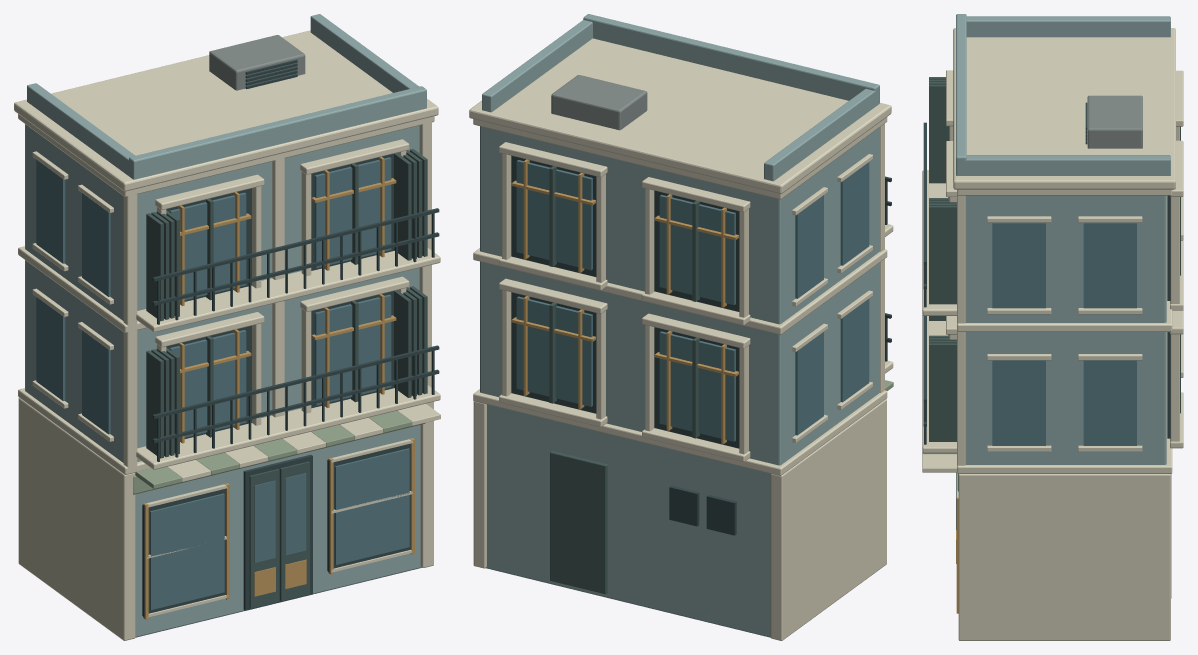
The model's file is sukhumvit-shophouse.glb.
3 renders of one model, left to right at view 1: azimuth 30°, elevation 25°; view 2: azimuth 150°, elevation 25°; view 3: azimuth 270°, elevation 25°, orthographic.
Visible parts, largest first — view 1: ShopUpperMesh, ShopLowerMesh; view 2: ShopUpperMesh, ShopLowerMesh; view 3: ShopUpperMesh, ShopLowerMesh.
Boxes of the visible parts, bbox=[...] form: ShopUpperMesh: bbox=[14, 14, 440, 474]; ShopLowerMesh: bbox=[18, 397, 440, 640]; ShopUpperMesh: bbox=[469, 14, 893, 475]; ShopLowerMesh: bbox=[473, 380, 893, 640]; ShopUpperMesh: bbox=[922, 14, 1183, 473]; ShopLowerMesh: bbox=[922, 452, 1171, 640].
Bounding box in the file's own units: 5.04 × 7.37 × 3.62.
